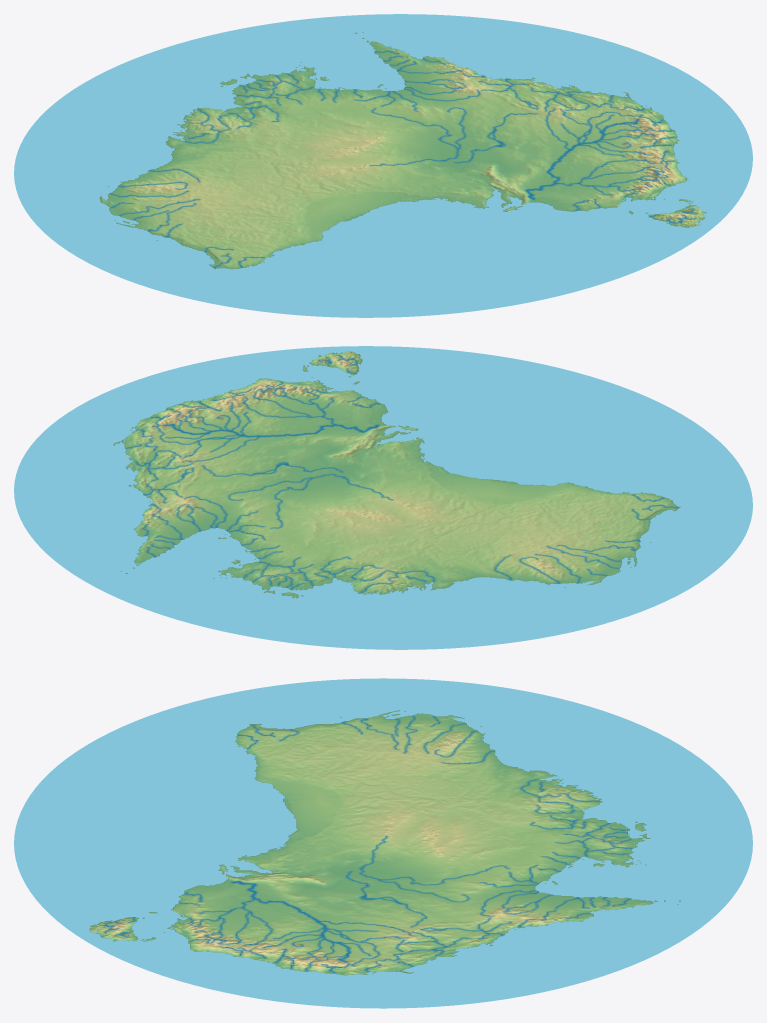
The model's file is AUS-terrain.glb.
3 views of the same model, one above another, from view 1: azimuth 30°, elevation 25°; view 2: azimuth 150°, elevation 25°; view 3: azimuth 270°, elevation 25° (orthographic). The views are drawn at different scales.
Parts seen in each view (by area): view 1: Relevo com hidrografia; view 2: Relevo com hidrografia; view 3: Relevo com hidrografia.
Boxes of the visible parts, bbox=[...] form: Relevo com hidrografia: bbox=[14, 14, 752, 317]; Relevo com hidrografia: bbox=[14, 346, 752, 649]; Relevo com hidrografia: bbox=[14, 678, 752, 1008].
Bounding box in the file's own units: 2 × 0.00981 × 1.89.
Materials: 2 (1 with a texture image).
